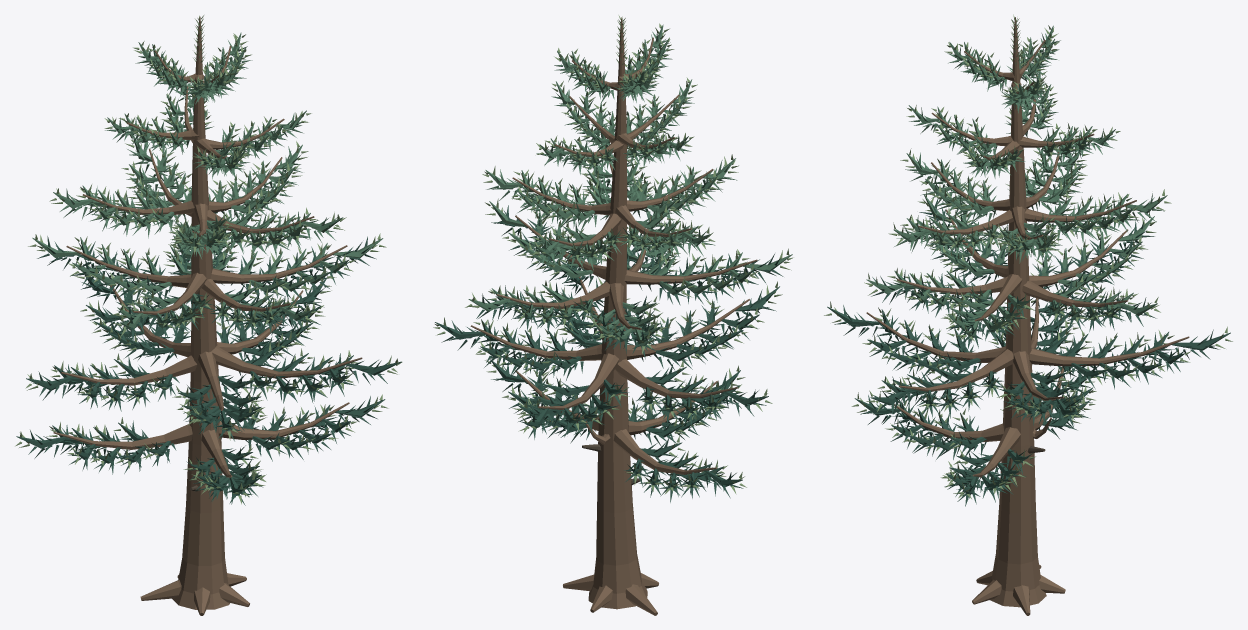
Rendered from conifer-tree.glb.
3 renders of one model, left to right at view 1: azimuth 30°, elevation 25°; view 2: azimuth 150°, elevation 25°; view 3: azimuth 270°, elevation 25°, orthographic.
Parts seen in each view (by area): view 1: Conifer | tapered branchlet axes, Conifer | curved boughs and rounded collars, Conifer | continuous taper and root flare, Conifer | foliage tier 02, Conifer | foliage tier 03, Conifer | foliage tier 04, Conifer | foliage tier 01, Conifer | foliage tier 05, Conifer | foliage tier 06; view 2: Conifer | tapered branchlet axes, Conifer | curved boughs and rounded collars, Conifer | continuous taper and root flare, Conifer | foliage tier 02, Conifer | foliage tier 04, Conifer | foliage tier 03, Conifer | foliage tier 01, Conifer | foliage tier 05, Conifer | foliage tier 06; view 3: Conifer | tapered branchlet axes, Conifer | curved boughs and rounded collars, Conifer | continuous taper and root flare, Conifer | foliage tier 02, Conifer | foliage tier 03, Conifer | foliage tier 04, Conifer | foliage tier 01, Conifer | foliage tier 05, Conifer | foliage tier 06.
Boxes of the visible parts, x1,y1,x2,y2 form: Conifer | tapered branchlet axes: (16,32,401,495); Conifer | curved boughs and rounded collars: (53,45,362,491); Conifer | continuous taper and root flare: (140,16,249,615); Conifer | foliage tier 02: (25,263,402,441); Conifer | foliage tier 03: (28,197,386,342); Conifer | foliage tier 04: (49,135,346,259); Conifer | foliage tier 01: (15,394,388,505); Conifer | foliage tier 05: (104,71,311,178); Conifer | foliage tier 06: (133,33,252,104); Conifer | tapered branchlet axes: (435,24,792,489); Conifer | curved boughs and rounded collars: (470,37,757,485); Conifer | continuous taper and root flare: (563,17,658,615); Conifer | foliage tier 02: (433,259,782,439); Conifer | foliage tier 04: (482,124,738,271); Conifer | foliage tier 03: (465,198,793,359); Conifer | foliage tier 01: (485,358,746,502); Conifer | foliage tier 05: (536,77,697,175); Conifer | foliage tier 06: (554,23,674,103); Conifer | tapered branchlet axes: (827,25,1230,494); Conifer | curved boughs and rounded collars: (866,40,1189,477); Conifer | continuous taper and root flare: (972,17,1065,615); Conifer | foliage tier 02: (824,263,1232,427); Conifer | foliage tier 03: (864,191,1160,349); Conifer | foliage tier 04: (888,123,1171,263); Conifer | foliage tier 01: (851,339,1096,506); Conifer | foliage tier 05: (906,71,1120,178); Conifer | foliage tier 06: (944,25,1060,113).
Size of the model in its own units: 4.11 by 7.07 by 4.55.
